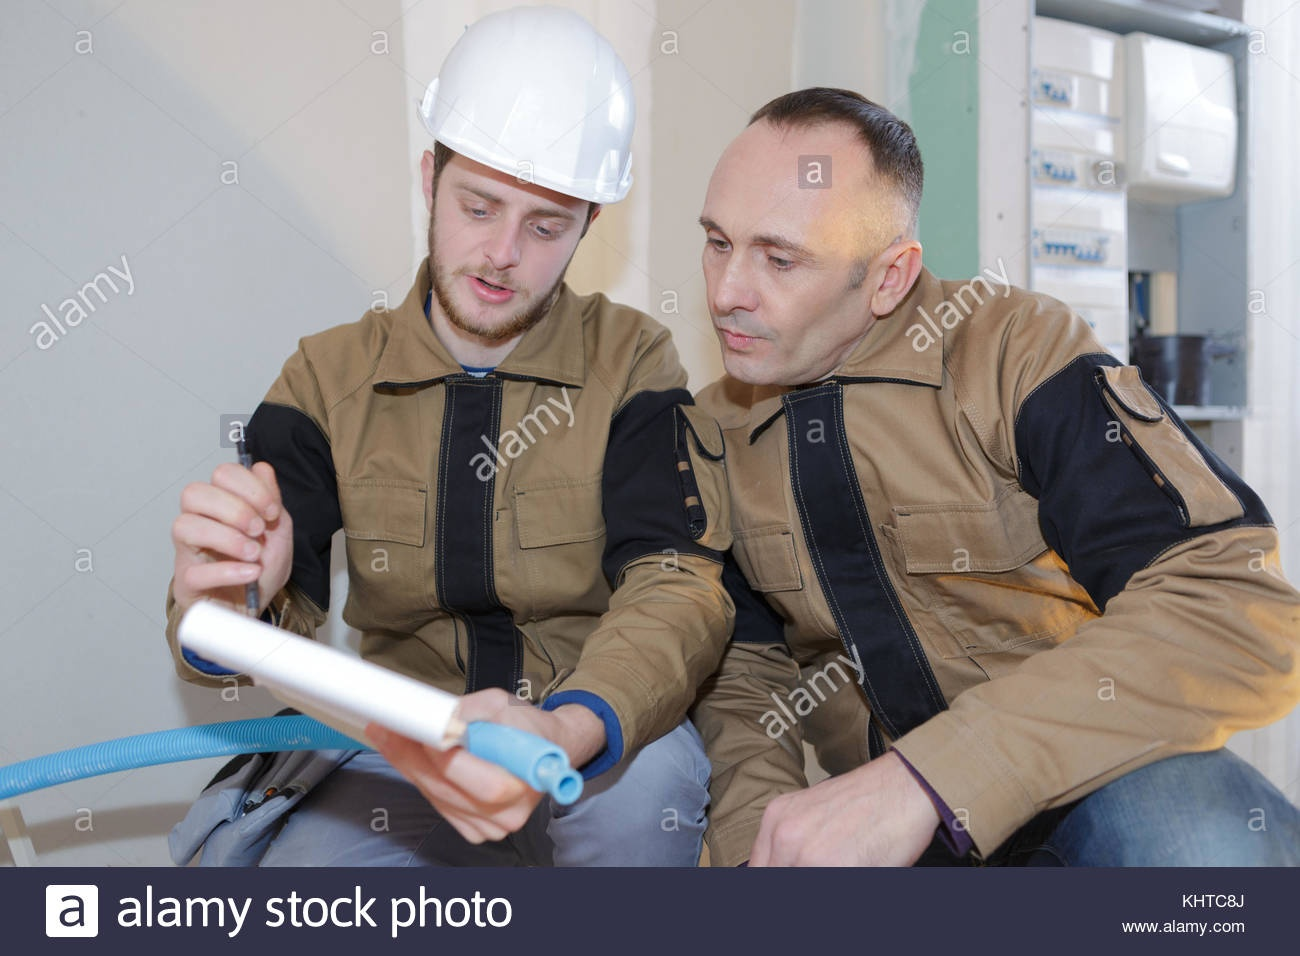none: (696, 83, 931, 391)
white: (417, 7, 629, 329)
